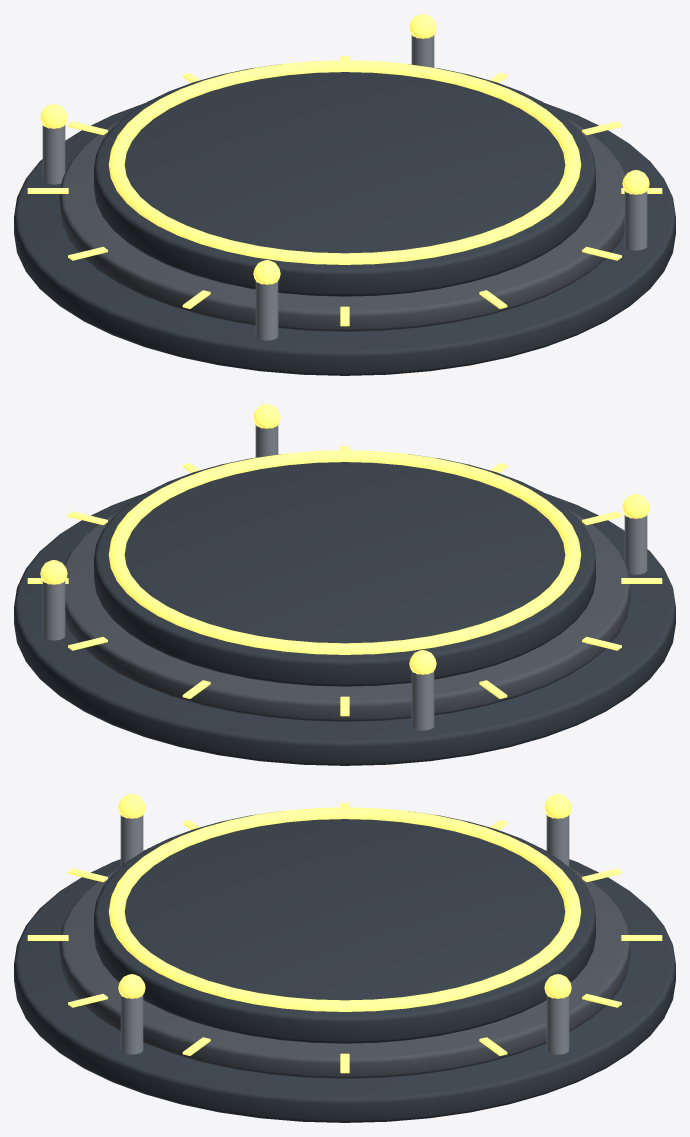
Rendered from pedestal.glb.
3 views of the same model, one above another, from view 1: azimuth 30°, elevation 25°; view 2: azimuth 150°, elevation 25°; view 3: azimuth 270°, elevation 25° (orthographic).
Parts seen in each view (by area): view 1: top, Cylinder, Cylinder.001, Torus, Cylinder.005, Cylinder.004, Cylinder.003, Cylinder.002, Sphere, Sphere.002, Sphere.003, Sphere.001; view 2: top, Cylinder, Cylinder.001, Torus, Cylinder.002, Cylinder.003, Cylinder.004, Cylinder.005, Sphere, Sphere.001, Sphere.003, Sphere.002; view 3: top, Cylinder, Cylinder.001, Torus, Cylinder.002, Cylinder.005, Cylinder.003, Cylinder.004, Sphere, Sphere.001, Sphere.002, Sphere.003.
Boxes of the visible parts, x1=… form: top: x1=94, y1=64, x2=595, y2=296; Cylinder: x1=14, y1=103, x2=675, y2=375; Cylinder.001: x1=59, y1=119, x2=625, y2=331; Torus: x1=108, y1=60, x2=581, y2=264; Cylinder.005: x1=624, y1=191, x2=647, y2=250; Cylinder.004: x1=255, y1=281, x2=278, y2=340; Cylinder.003: x1=42, y1=125, x2=65, y2=184; Cylinder.002: x1=411, y1=35, x2=434, y2=67; Sphere: x1=409, y1=14, x2=436, y2=38; Sphere.002: x1=253, y1=260, x2=280, y2=284; Sphere.003: x1=622, y1=170, x2=649, y2=194; Sphere.001: x1=40, y1=104, x2=67, y2=128; top: x1=94, y1=454, x2=595, y2=686; Cylinder: x1=14, y1=493, x2=675, y2=765; Cylinder.001: x1=64, y1=509, x2=630, y2=721; Torus: x1=108, y1=450, x2=581, y2=654; Cylinder.002: x1=42, y1=581, x2=65, y2=640; Cylinder.003: x1=411, y1=671, x2=434, y2=730; Cylinder.004: x1=624, y1=515, x2=647, y2=574; Cylinder.005: x1=255, y1=425, x2=278, y2=457; Sphere: x1=40, y1=560, x2=67, y2=584; Sphere.001: x1=409, y1=650, x2=436, y2=674; Sphere.003: x1=253, y1=404, x2=280, y2=428; Sphere.002: x1=622, y1=494, x2=649, y2=518; top: x1=94, y1=811, x2=595, y2=1043; Cylinder: x1=14, y1=850, x2=675, y2=1122; Cylinder.001: x1=59, y1=866, x2=630, y2=1078; Torus: x1=108, y1=807, x2=581, y2=1011; Cylinder.002: x1=546, y1=995, x2=569, y2=1054; Cylinder.005: x1=120, y1=995, x2=143, y2=1054; Cylinder.003: x1=546, y1=815, x2=569, y2=866; Cylinder.004: x1=120, y1=815, x2=143, y2=866; Sphere: x1=544, y1=974, x2=571, y2=998; Sphere.001: x1=544, y1=794, x2=571, y2=818; Sphere.002: x1=118, y1=794, x2=145, y2=818; Sphere.003: x1=118, y1=974, x2=145, y2=998.
Bounding box in the file's own units: 2.9 × 0.48 × 2.9.
